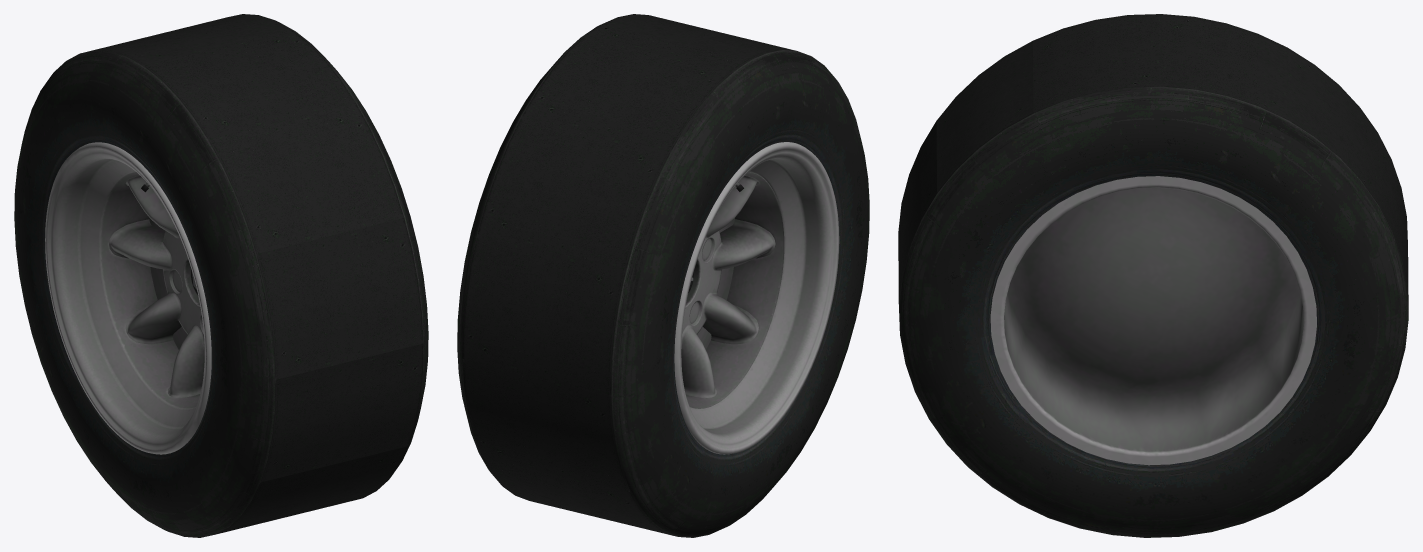
The model's file is ford_escort_rs1600_wheel_front_left.glb.
3 views of the same model, side by side, from view 1: azimuth 30°, elevation 25°; view 2: azimuth 150°, elevation 25°; view 3: azimuth 270°, elevation 25° (orthographic).
Parts seen in each view (by area): view 1: Wheel_front_left; view 2: Wheel_front_left; view 3: Wheel_front_left.
Boxes of the visible parts, left/top/right/bottom form: Wheel_front_left: left=14, top=14, right=428, bottom=537; Wheel_front_left: left=457, top=14, right=869, bottom=537; Wheel_front_left: left=898, top=14, right=1408, bottom=537.
Size of the model in its own units: 0.2552 by 0.56 by 0.574.
Materials: 2 (2 with a texture image).
